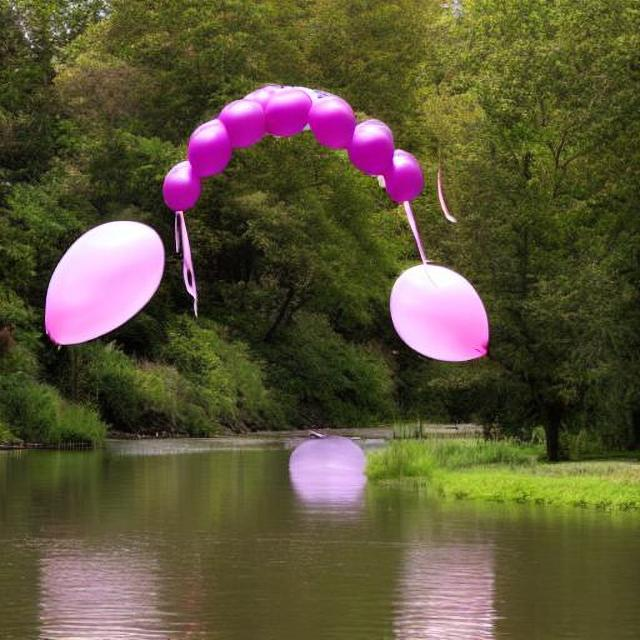balloon: (162, 81, 426, 214), (42, 218, 166, 344), (387, 261, 491, 362), (283, 428, 369, 519)
